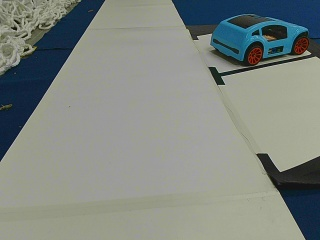car: (211, 16, 309, 64)
